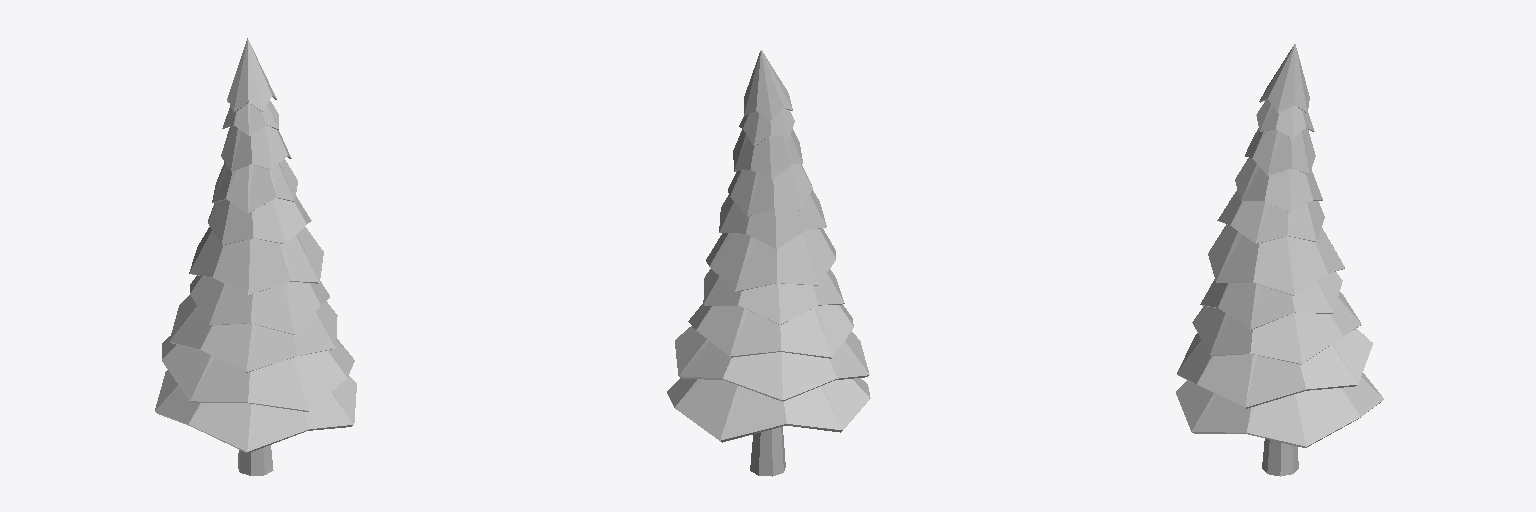
Rendered from LP Small Pine Tree.obj.
3 renders of one model, left to right at view 1: azimuth 30°, elevation 25°; view 2: azimuth 150°, elevation 25°; view 3: azimuth 270°, elevation 25°, orthographic.
Visible parts, largest first — view 1: P_T_L_trunk_Cylinder.002; view 2: P_T_L_trunk_Cylinder.002; view 3: P_T_L_trunk_Cylinder.002.
Part boxes in pixels (x1,y1,x2,y2): P_T_L_trunk_Cylinder.002: (155,38,356,475); P_T_L_trunk_Cylinder.002: (667,50,870,476); P_T_L_trunk_Cylinder.002: (1176,44,1383,476).
Size of the model in its own units: 5.92 by 13.61 by 6.06.